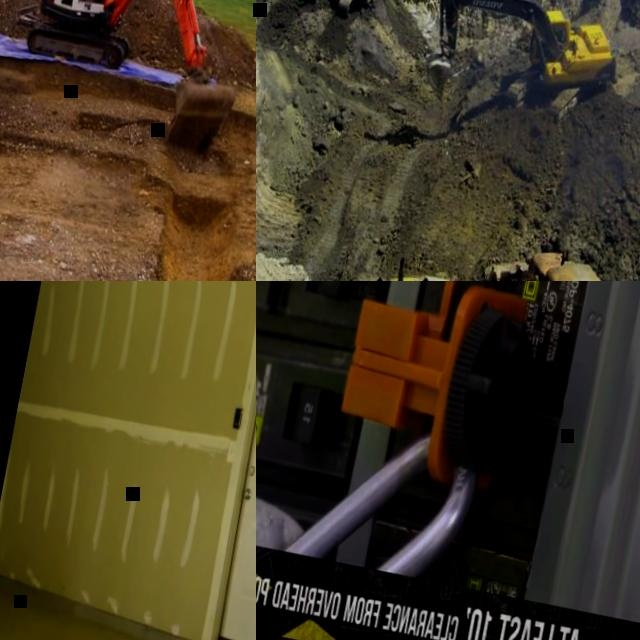Person: (256, 377, 316, 552)
machinery: (8, 0, 256, 164), (417, 0, 626, 132), (463, 229, 640, 281), (341, 246, 472, 281)
